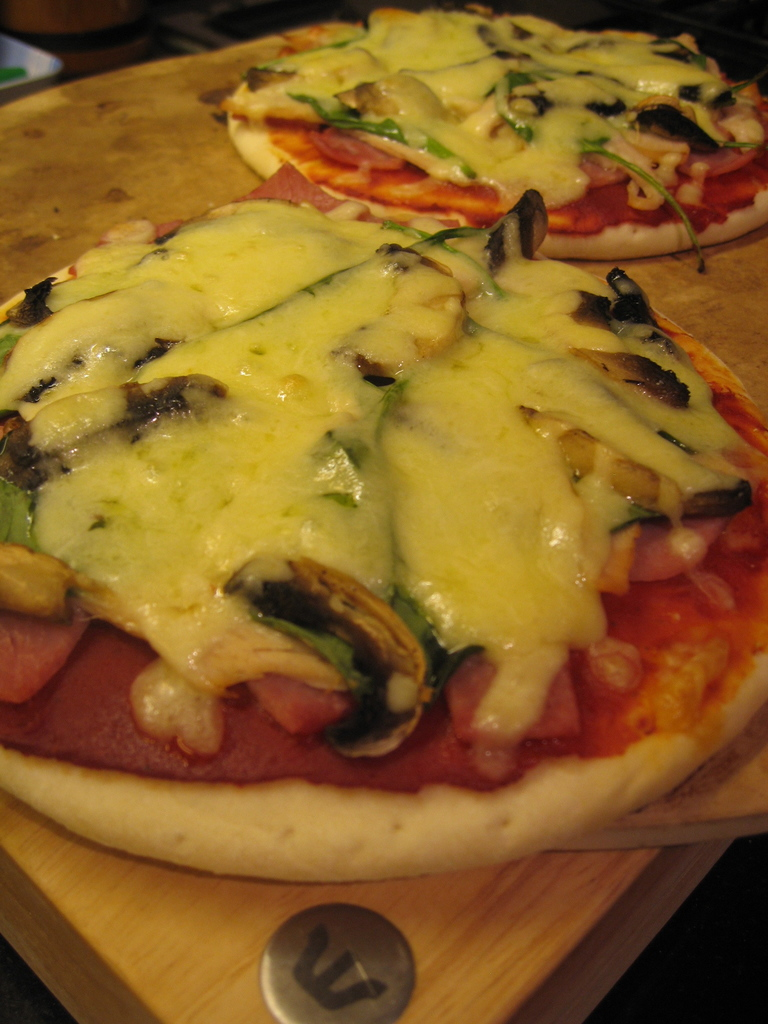Pizza: (0, 80, 768, 858), (217, 1, 767, 261)
